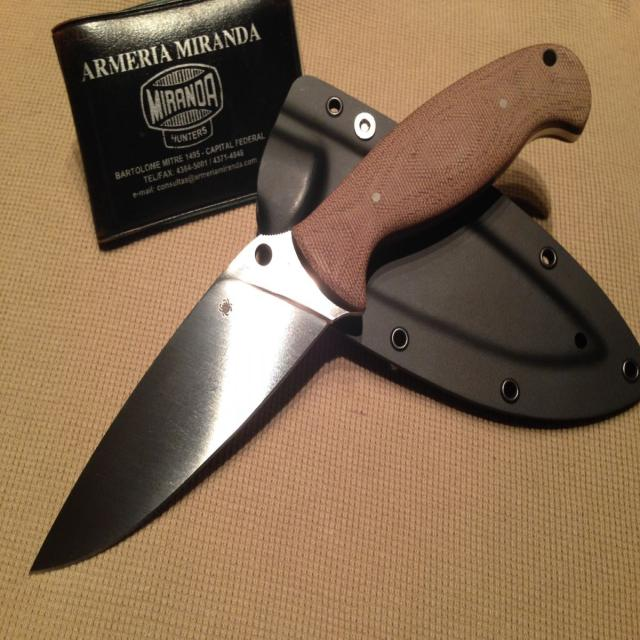knife: (26, 38, 598, 581)
